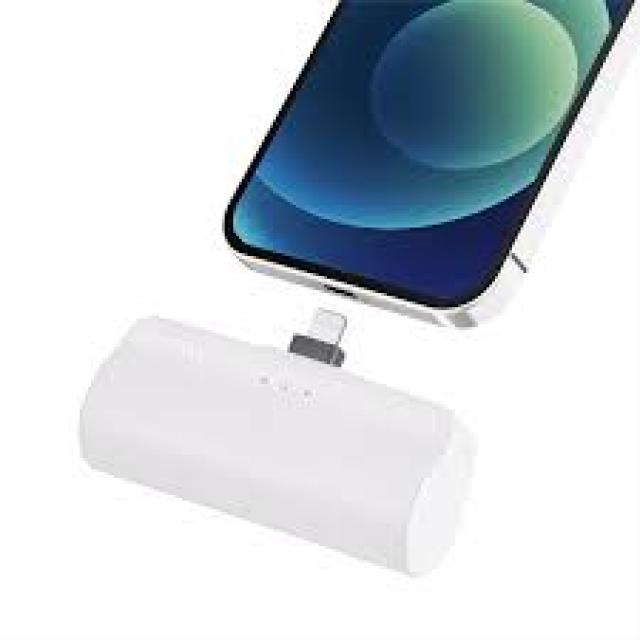portable-charger: (68, 306, 477, 582)
